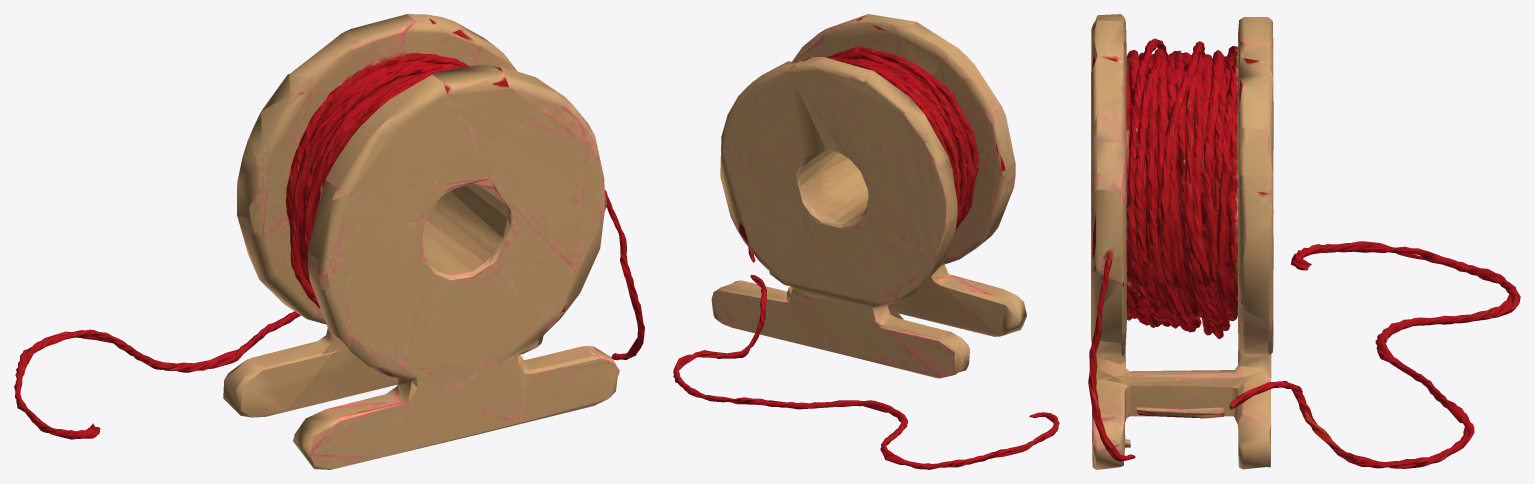
File: spool.glb
3 renders of one model, left to right at view 1: azimuth 30°, elevation 25°; view 2: azimuth 150°, elevation 25°; view 3: azimuth 270°, elevation 25°, orthographic. The views are drawn at different scales.
Bounding box in the file's own units: 1.9 × 1.34 × 1.4.
1 material, 1 textured.
